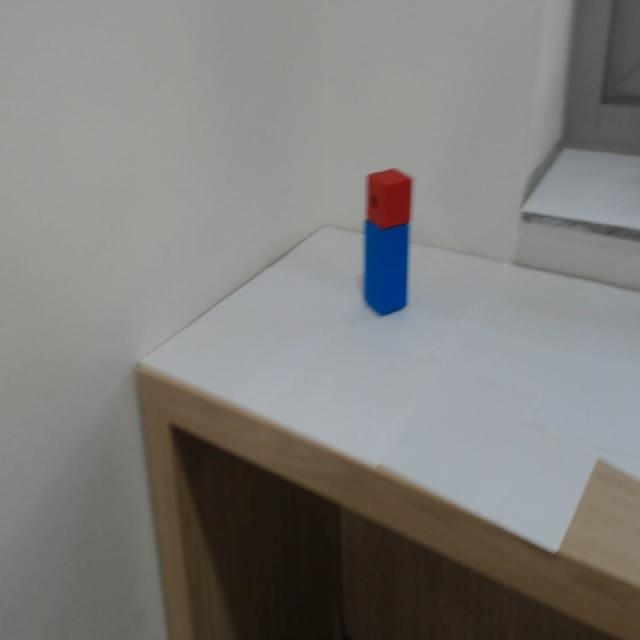cube: (356, 165, 412, 233)
